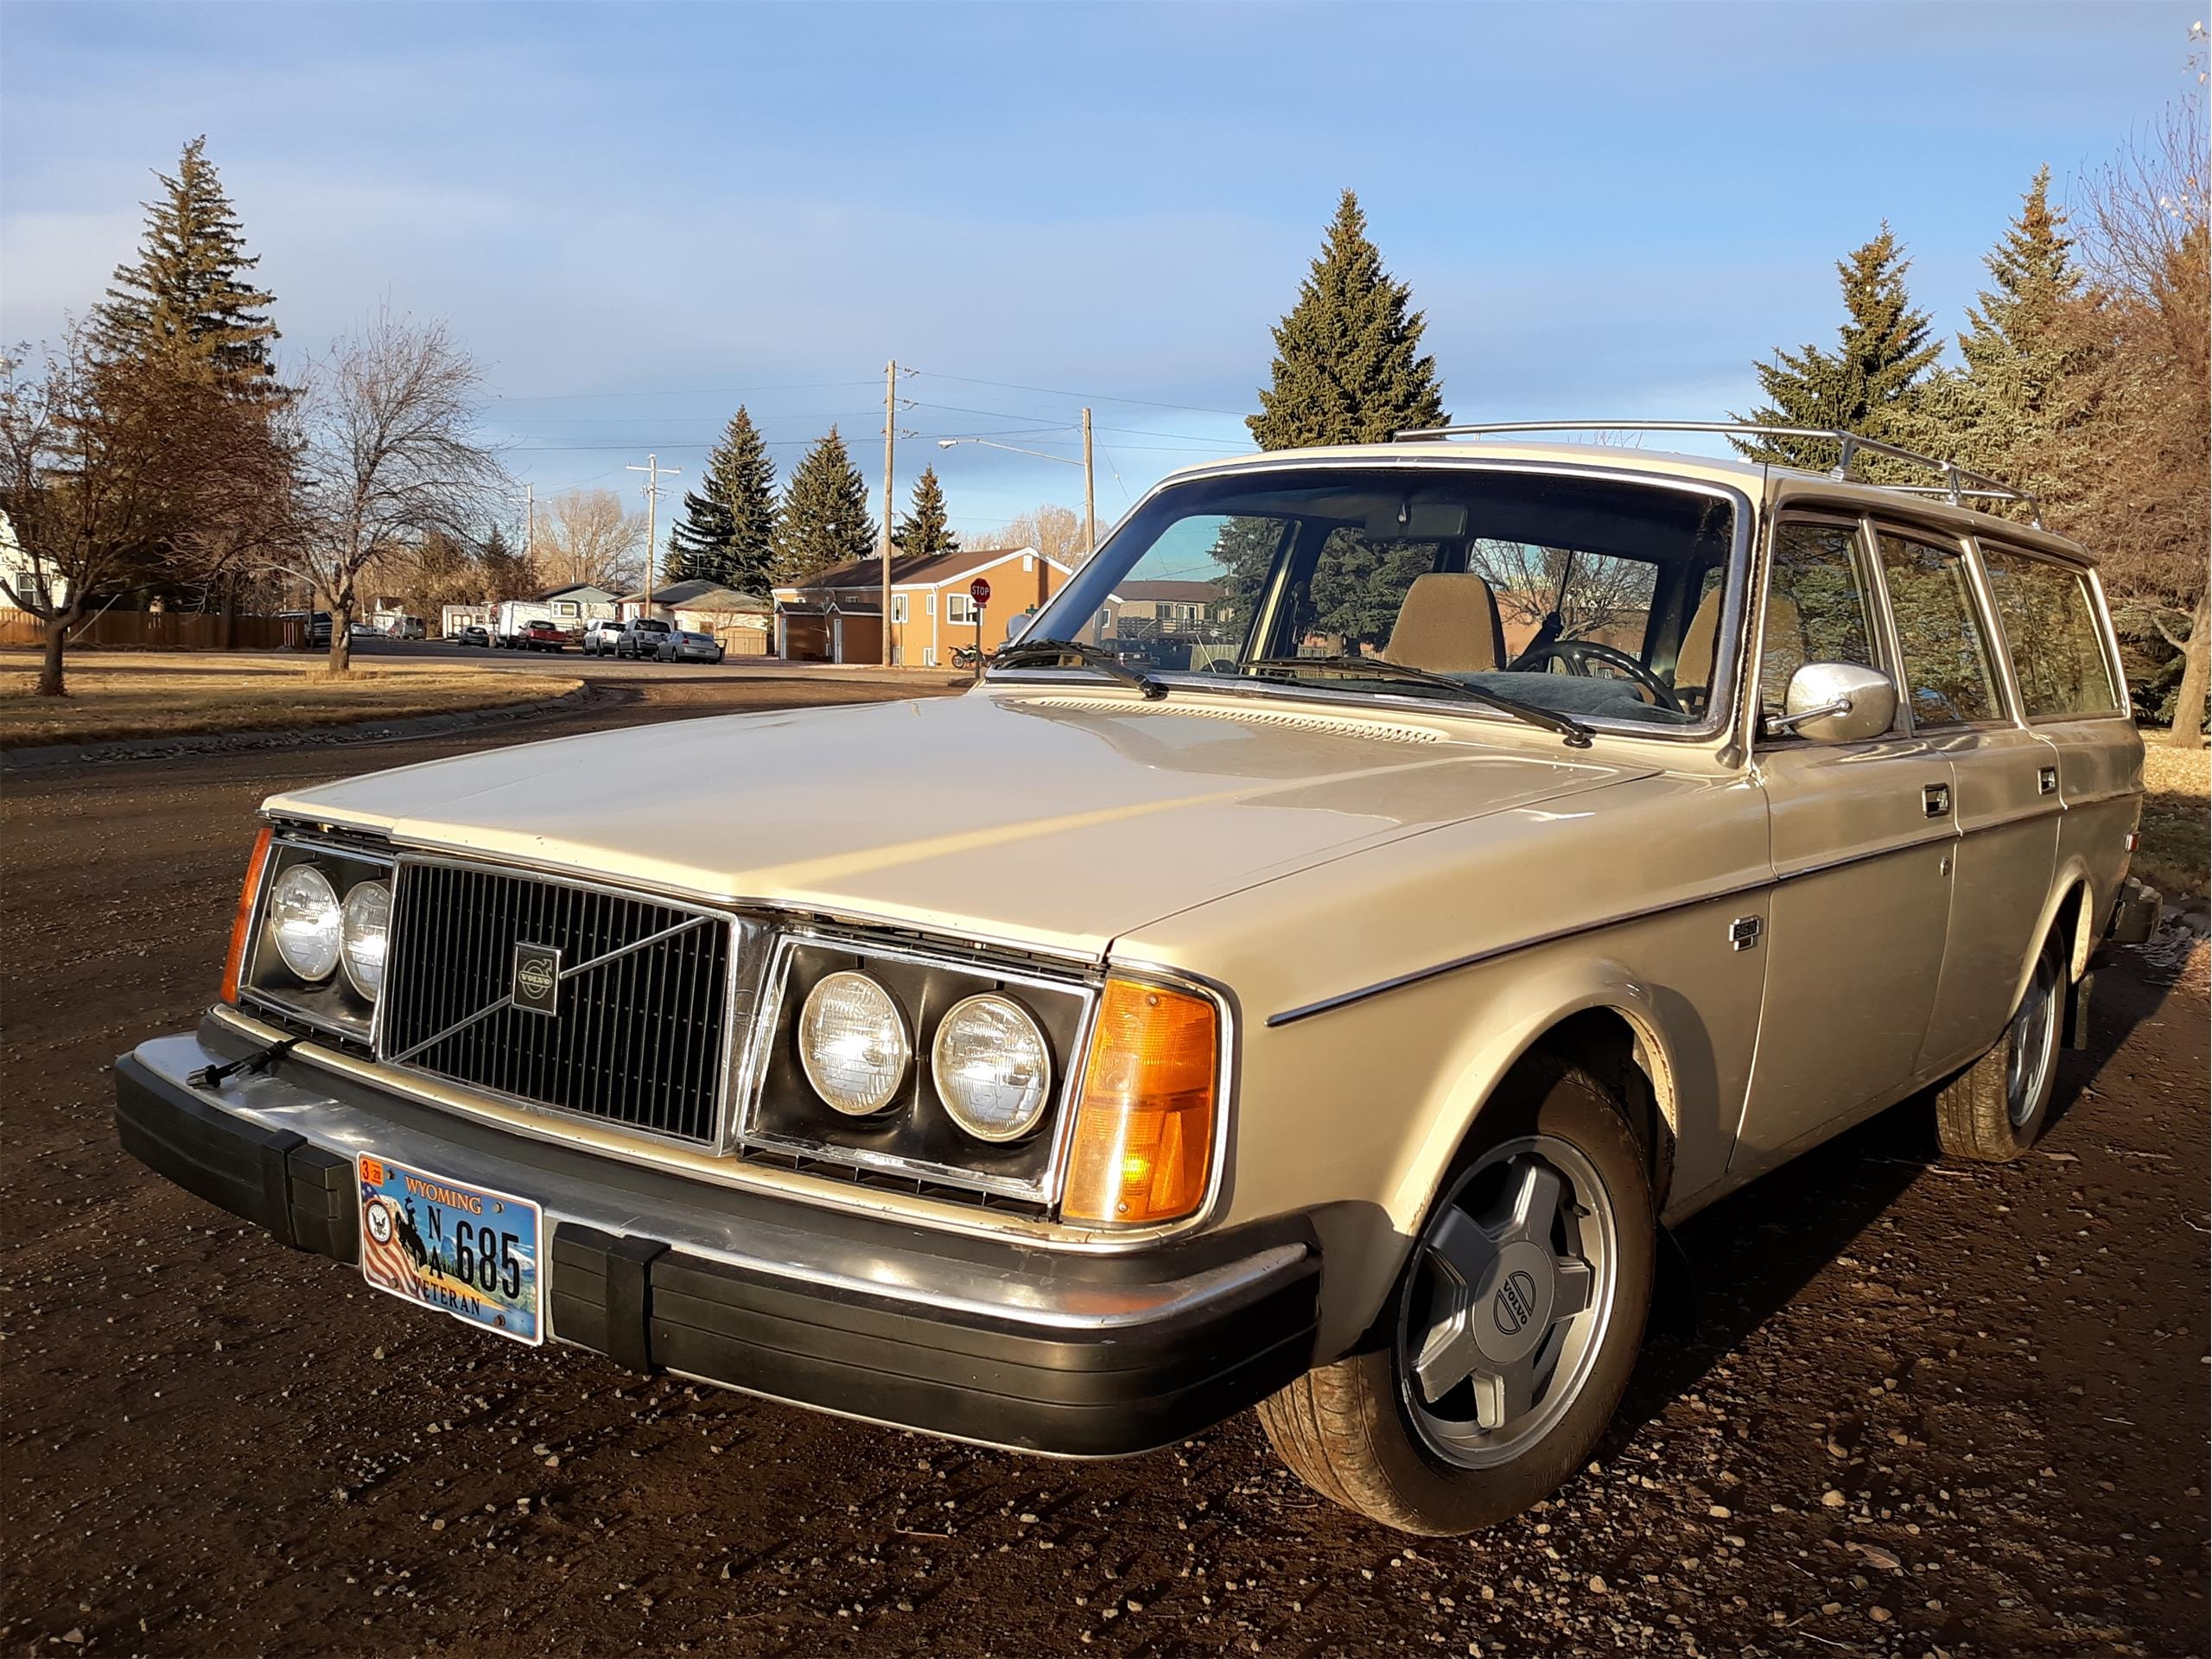car: (106, 423, 2148, 1540)
